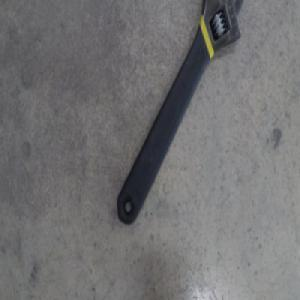AdjustableWrench: (116, 0, 244, 225)
